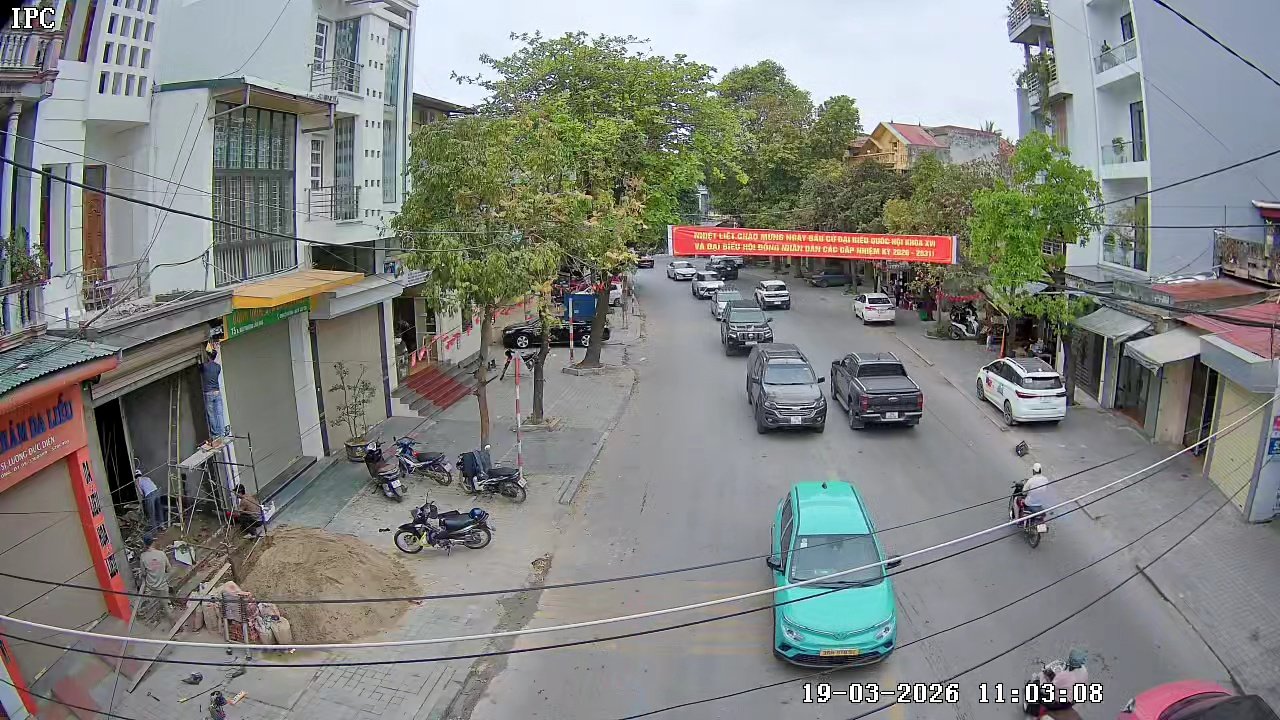car: (763, 479, 901, 670), (747, 340, 829, 434), (829, 350, 924, 431), (975, 354, 1068, 429), (720, 299, 777, 356), (854, 291, 897, 326), (755, 277, 792, 311)
exception: (1011, 645, 1108, 719)
motorbike: (393, 494, 496, 556), (455, 439, 530, 504), (1008, 461, 1053, 550)
